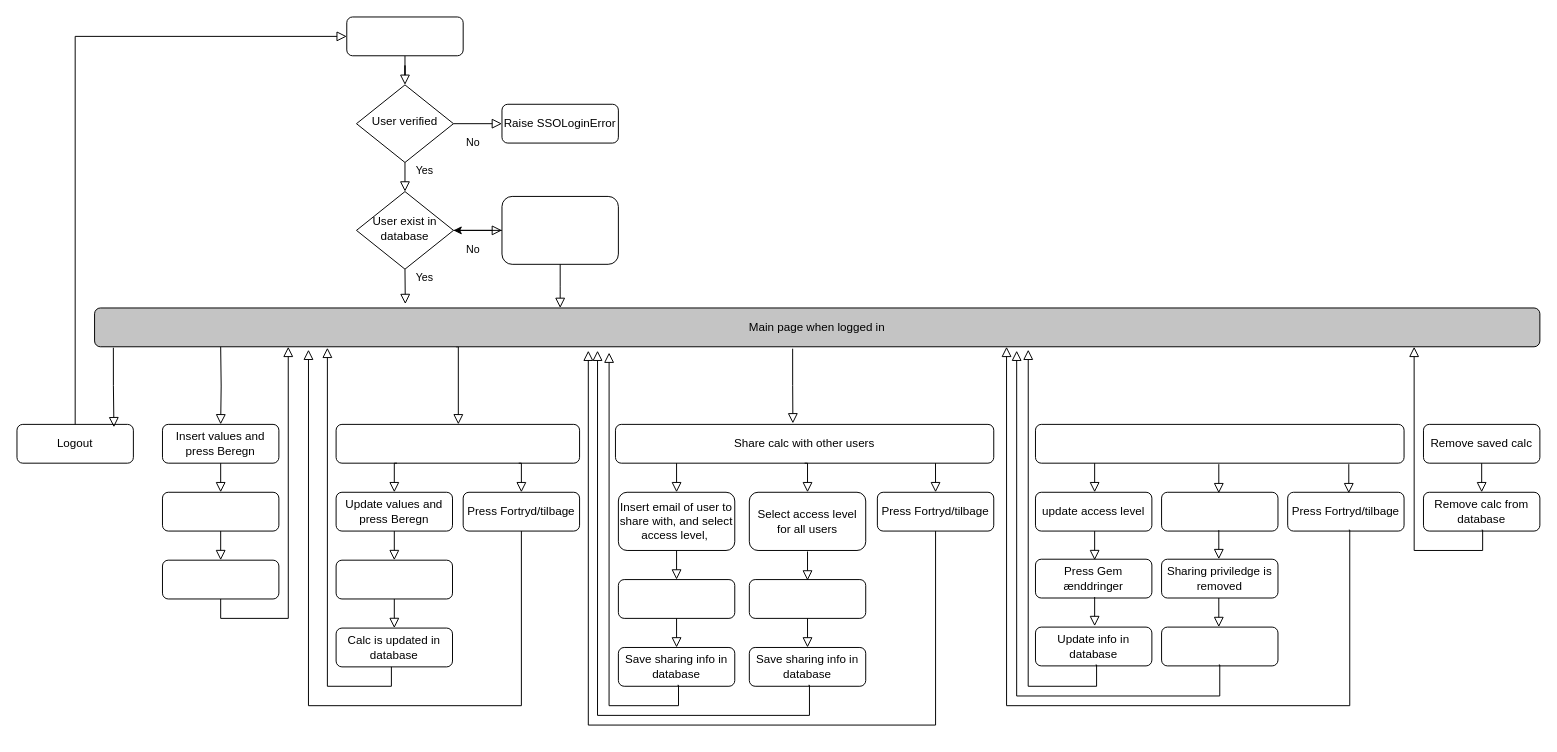
Some shapes in this 1557 by 752 pixel diagram are drawn without their labels. Each missing label, with the box of its shape:
Add user to database and allow access to calcs shared with all users: (501, 195, 618, 264)
Calc is saved in database: (162, 559, 279, 599)
Edit own saved calc / Edit calc shared with user with access level write: (335, 423, 580, 463)
Gem Beregning: (162, 491, 279, 531)
Login med Google: (346, 16, 463, 56)
Press Del med alle: (748, 579, 866, 618)
Press Del med bruger: (617, 579, 735, 618)
Press Gem ændringer: (335, 559, 453, 599)
Press Stop deling: (1161, 491, 1278, 531)
Pressing Rediger deling: (1035, 423, 1404, 463)
Update database: (1161, 626, 1278, 666)
